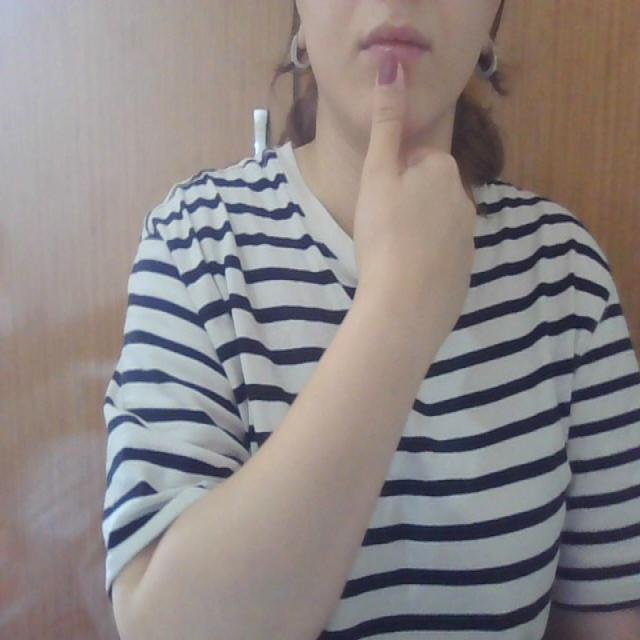Baba: (349, 16, 440, 145)
